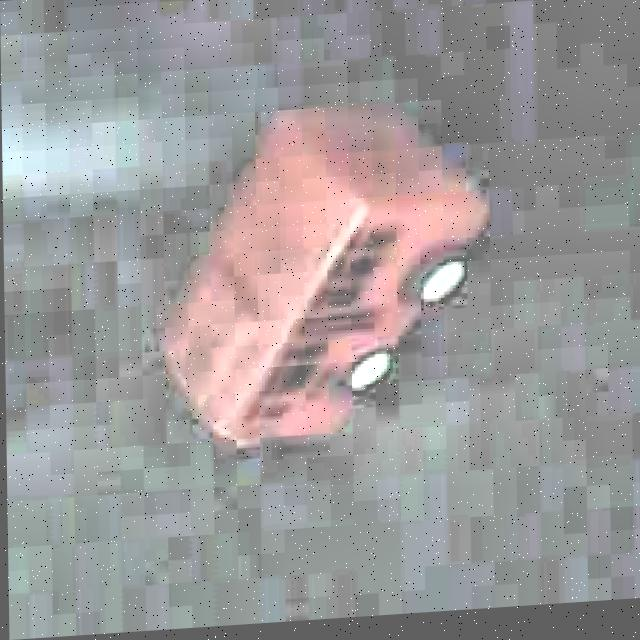bus: (155, 92, 499, 459)
